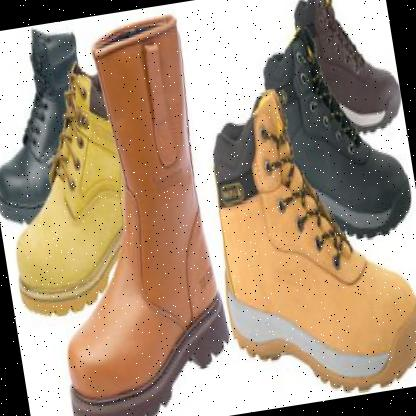bota: (201, 91, 416, 407)
